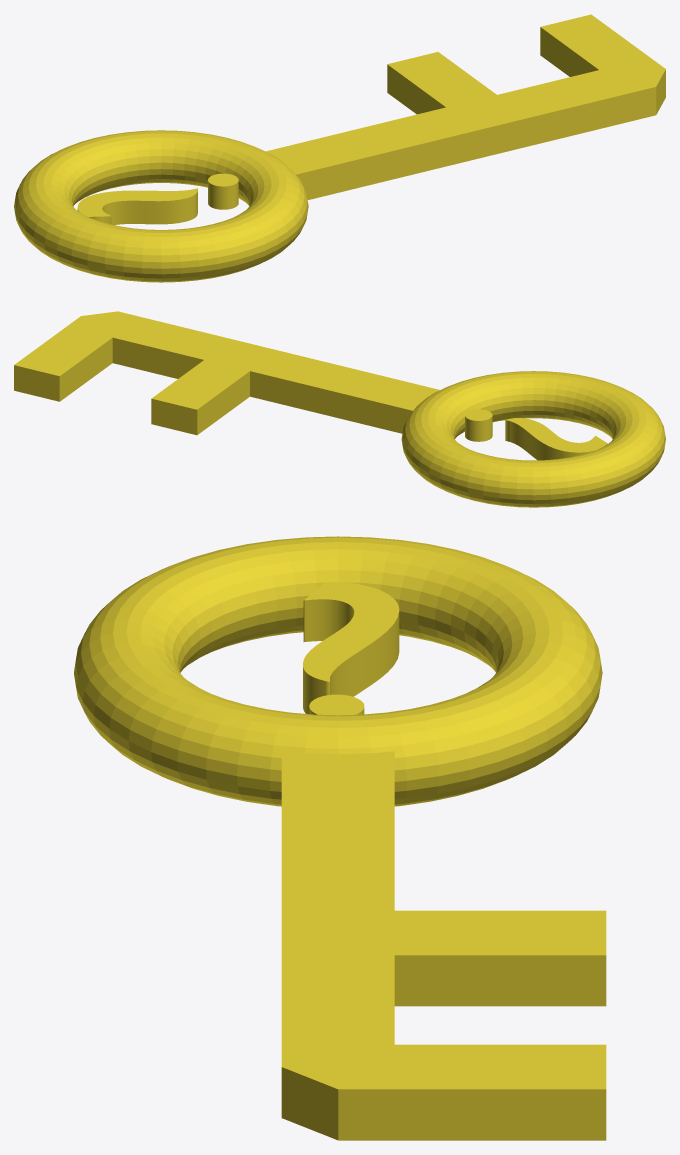
The model's file is key.fbx.
The picture shows the model from 3 angles, top to bottom: view 1: azimuth 30°, elevation 25°; view 2: azimuth 150°, elevation 25°; view 3: azimuth 270°, elevation 25°; orthographic projection. The views are drawn at different scales.
Parts seen in each view (by area): view 1: 立方体, トーラス, テキスト; view 2: 立方体, トーラス, テキスト; view 3: トーラス, 立方体, テキスト.
Part boxes in pixels (x1,y1,x2,y2): 立方体: (265, 14, 665, 199); トーラス: (14, 130, 308, 282); テキスト: (77, 173, 238, 224); 立方体: (14, 311, 439, 435); トーラス: (401, 371, 665, 507); テキスト: (465, 409, 607, 460); トーラス: (74, 536, 602, 806); 立方体: (281, 751, 606, 1140); テキスト: (303, 582, 399, 715).
Size of the model in its own units: 465 by 32.5 by 189.
